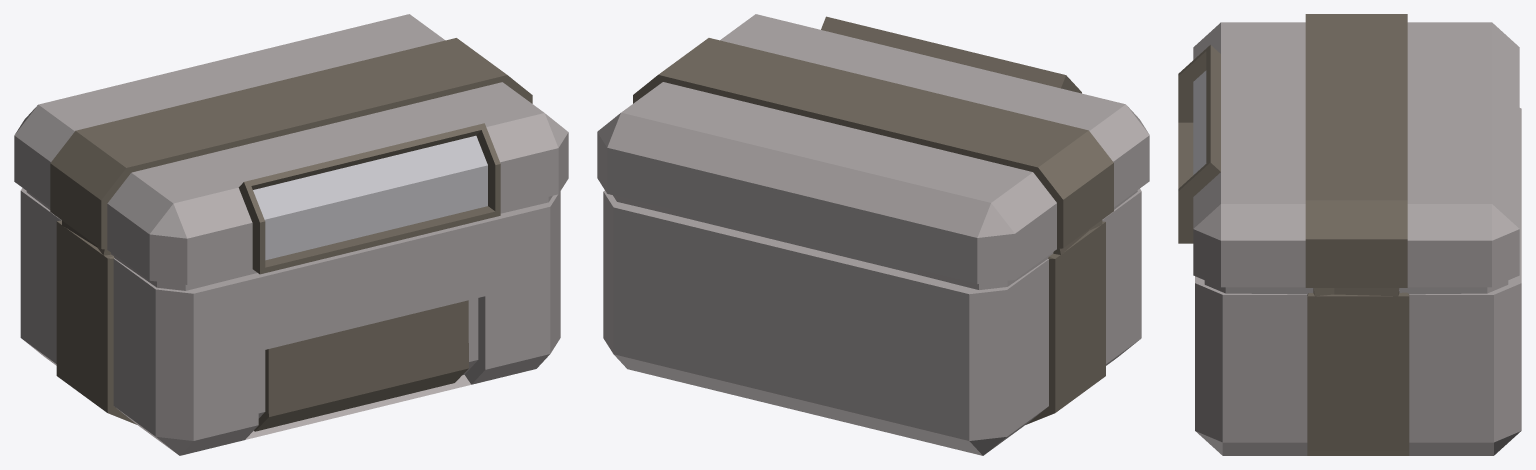
Rendered from Crate_02_2_Glow.fbx.
3 views of the same model, side by side, from view 1: azimuth 30°, elevation 25°; view 2: azimuth 150°, elevation 25°; view 3: azimuth 270°, elevation 25° (orthographic).
Parts seen in each view (by area): view 1: Crate_02_2_Glow; view 2: Crate_02_2_Glow; view 3: Crate_02_2_Glow.
Part boxes in pixels (box(x1,y1,x2,y2)): Crate_02_2_Glow: box(14, 14, 568, 455); Crate_02_2_Glow: box(597, 14, 1149, 455); Crate_02_2_Glow: box(1178, 14, 1521, 455).
Bounding box in the file's own units: 168 × 98.23 × 115.
2 materials, 2 textured.
